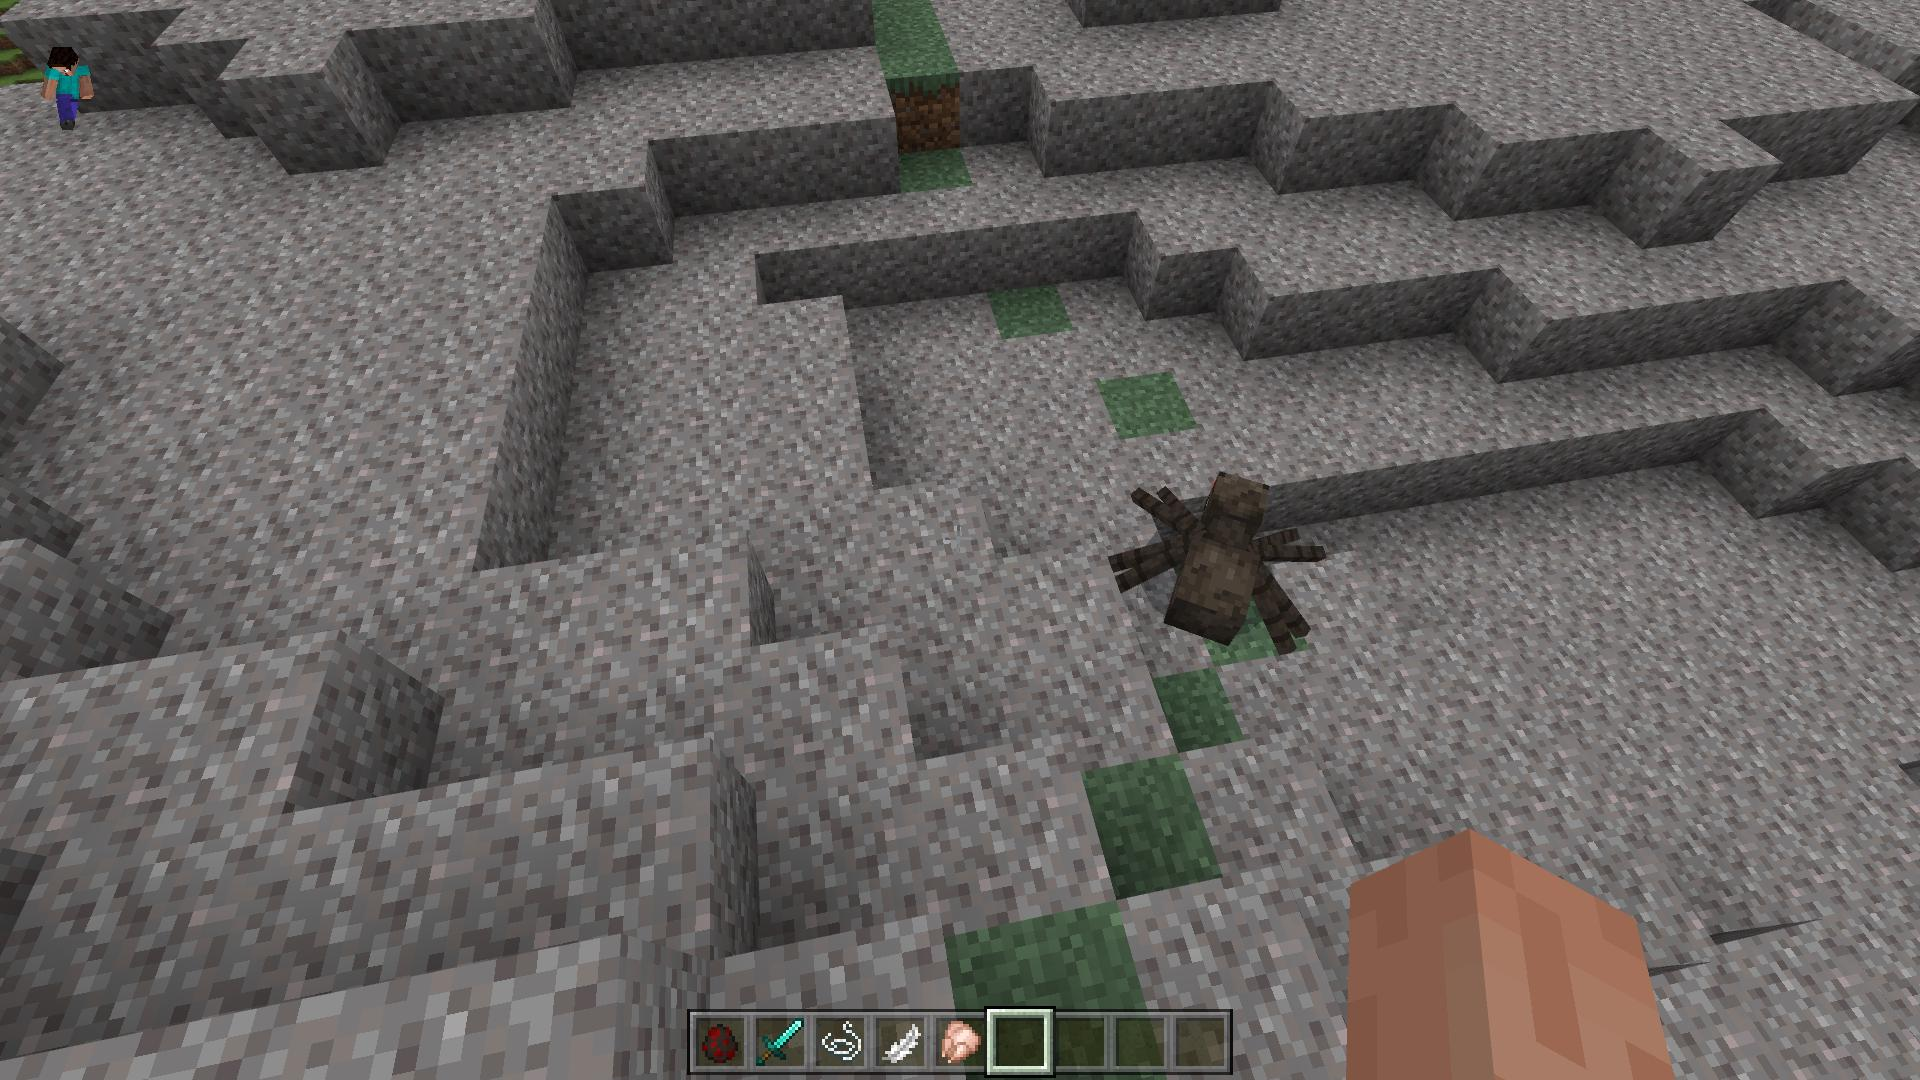spider: (1112, 468, 1325, 665)
